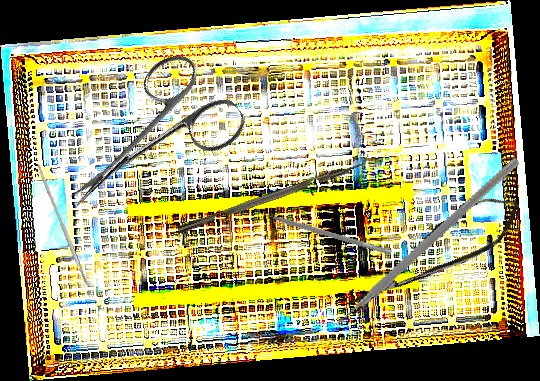Chopper: (313, 117, 521, 366), (173, 150, 373, 234)
Iris Scissors: (39, 41, 253, 246)
Micro Scissor: (335, 184, 531, 325)
Scalpel Handle: (35, 163, 89, 286)
Spatula Surgical: (253, 204, 394, 256)
